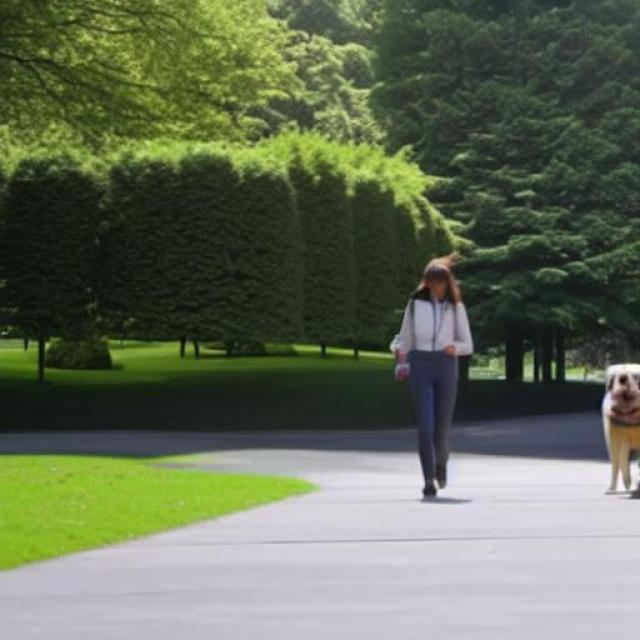Unleashed_Dog: (412, 350, 640, 498)
